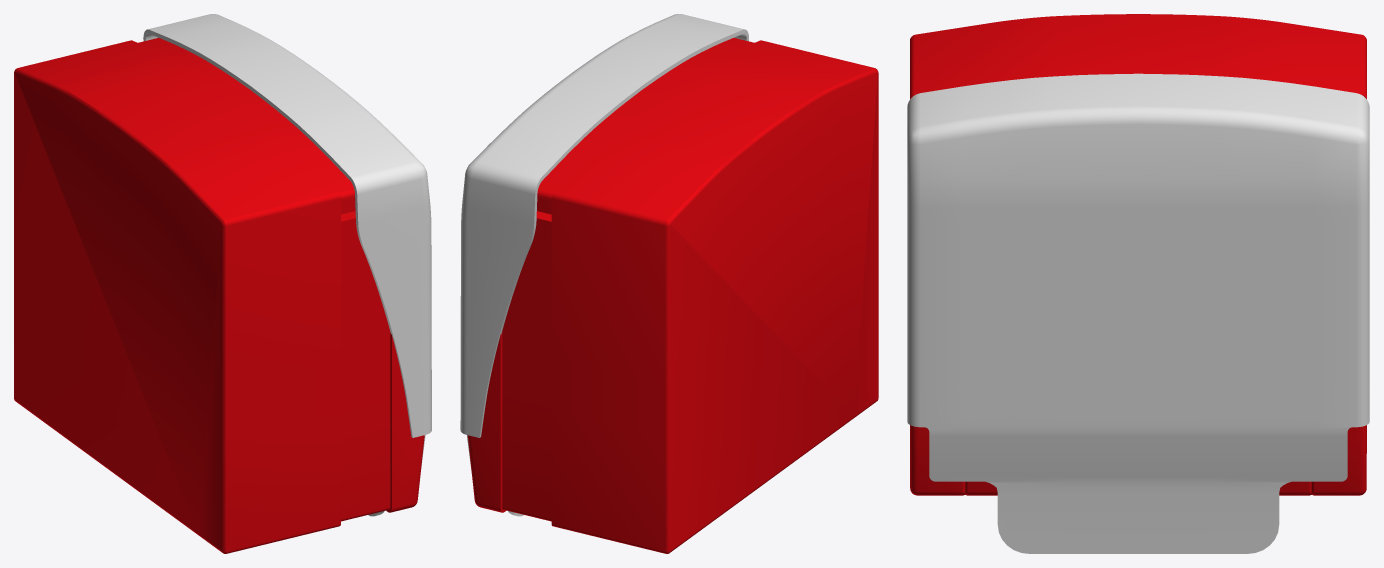
The model's file is FIRE ALARM.fbx.
The picture shows the model from 3 angles, left to right: view 1: azimuth 30°, elevation 25°; view 2: azimuth 150°, elevation 25°; view 3: azimuth 270°, elevation 25°; orthographic projection. The views are drawn at different scales.
Parts seen in each view (by area): view 1: galena, galena.001; view 2: galena, galena.001; view 3: galena.001, galena.
Part boxes in pixels (left/top/right/bottom): galena: left=14, top=37, right=424, bottom=553; galena.001: left=143, top=14, right=431, bottom=516; galena: left=467, top=38, right=878, bottom=553; galena.001: left=460, top=14, right=748, bottom=516; galena.001: left=907, top=73, right=1369, bottom=553; galena: left=910, top=14, right=1366, bottom=495.
Size of the model in its own units: 5.78 by 10.66 by 10.12.
